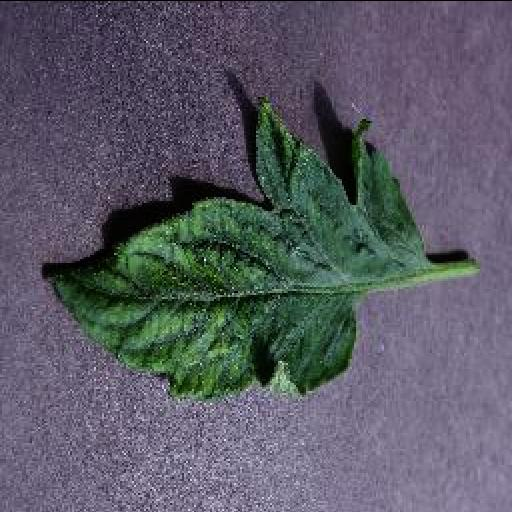Mosaic Virus: (36, 90, 428, 396)
